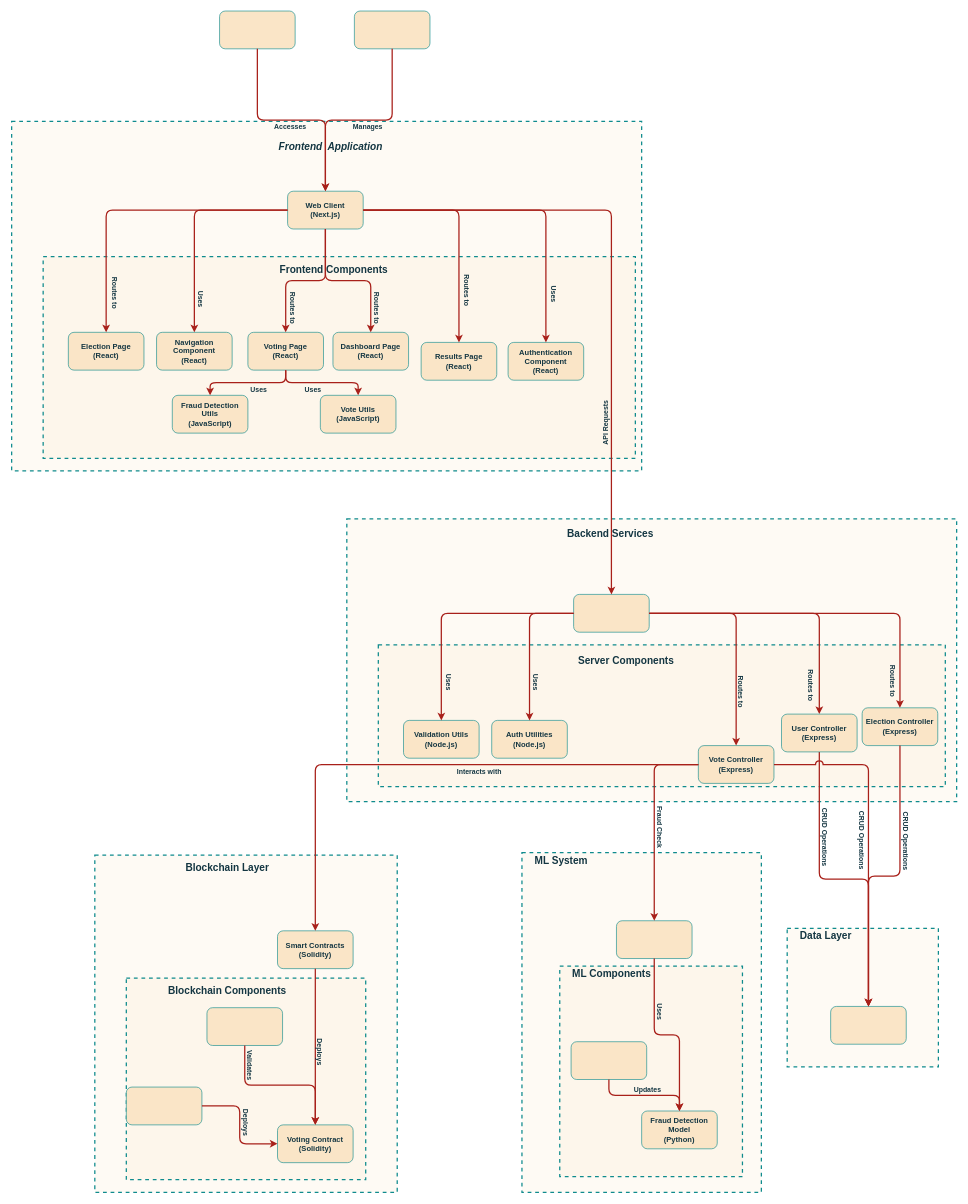
Some shapes in this 968 by 1204 pixel diagram are drawn without their labels. The shapes that lost their labels are listed below. From the top down, each one's box as (x1, y1, x2, y2) in pixels, then its label:
(219, 10, 295, 49): User
(354, 10, 430, 49): Admin
(573, 594, 649, 632): API Server (Node.js/Express)
(616, 920, 692, 959): Fraud Detection Service (Python)
(206, 1007, 283, 1045): Contract Tests (JavaScript)
(830, 1006, 906, 1044): Database (MongoDB)
(570, 1041, 647, 1080): Model Training System (Python)
(126, 1086, 202, 1125): Deployment Scripts (JavaScript)
